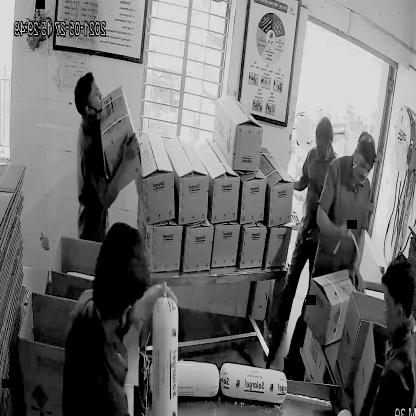no_goggles: (352, 154, 375, 176)
